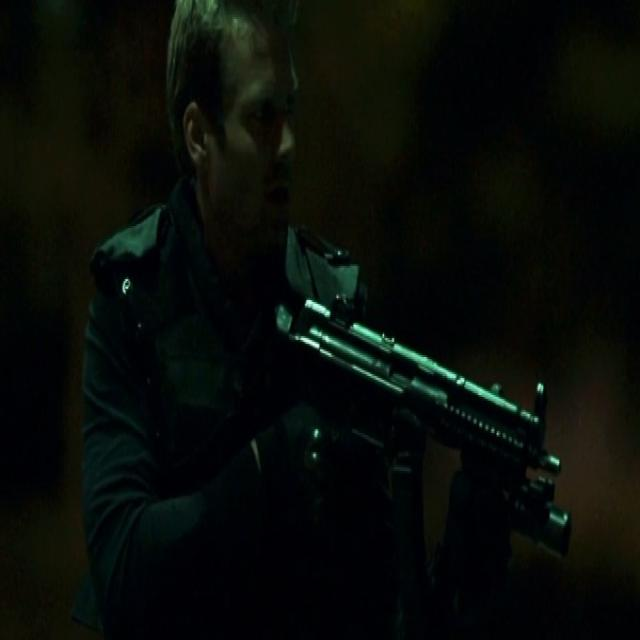rifle: (271, 285, 582, 566)
